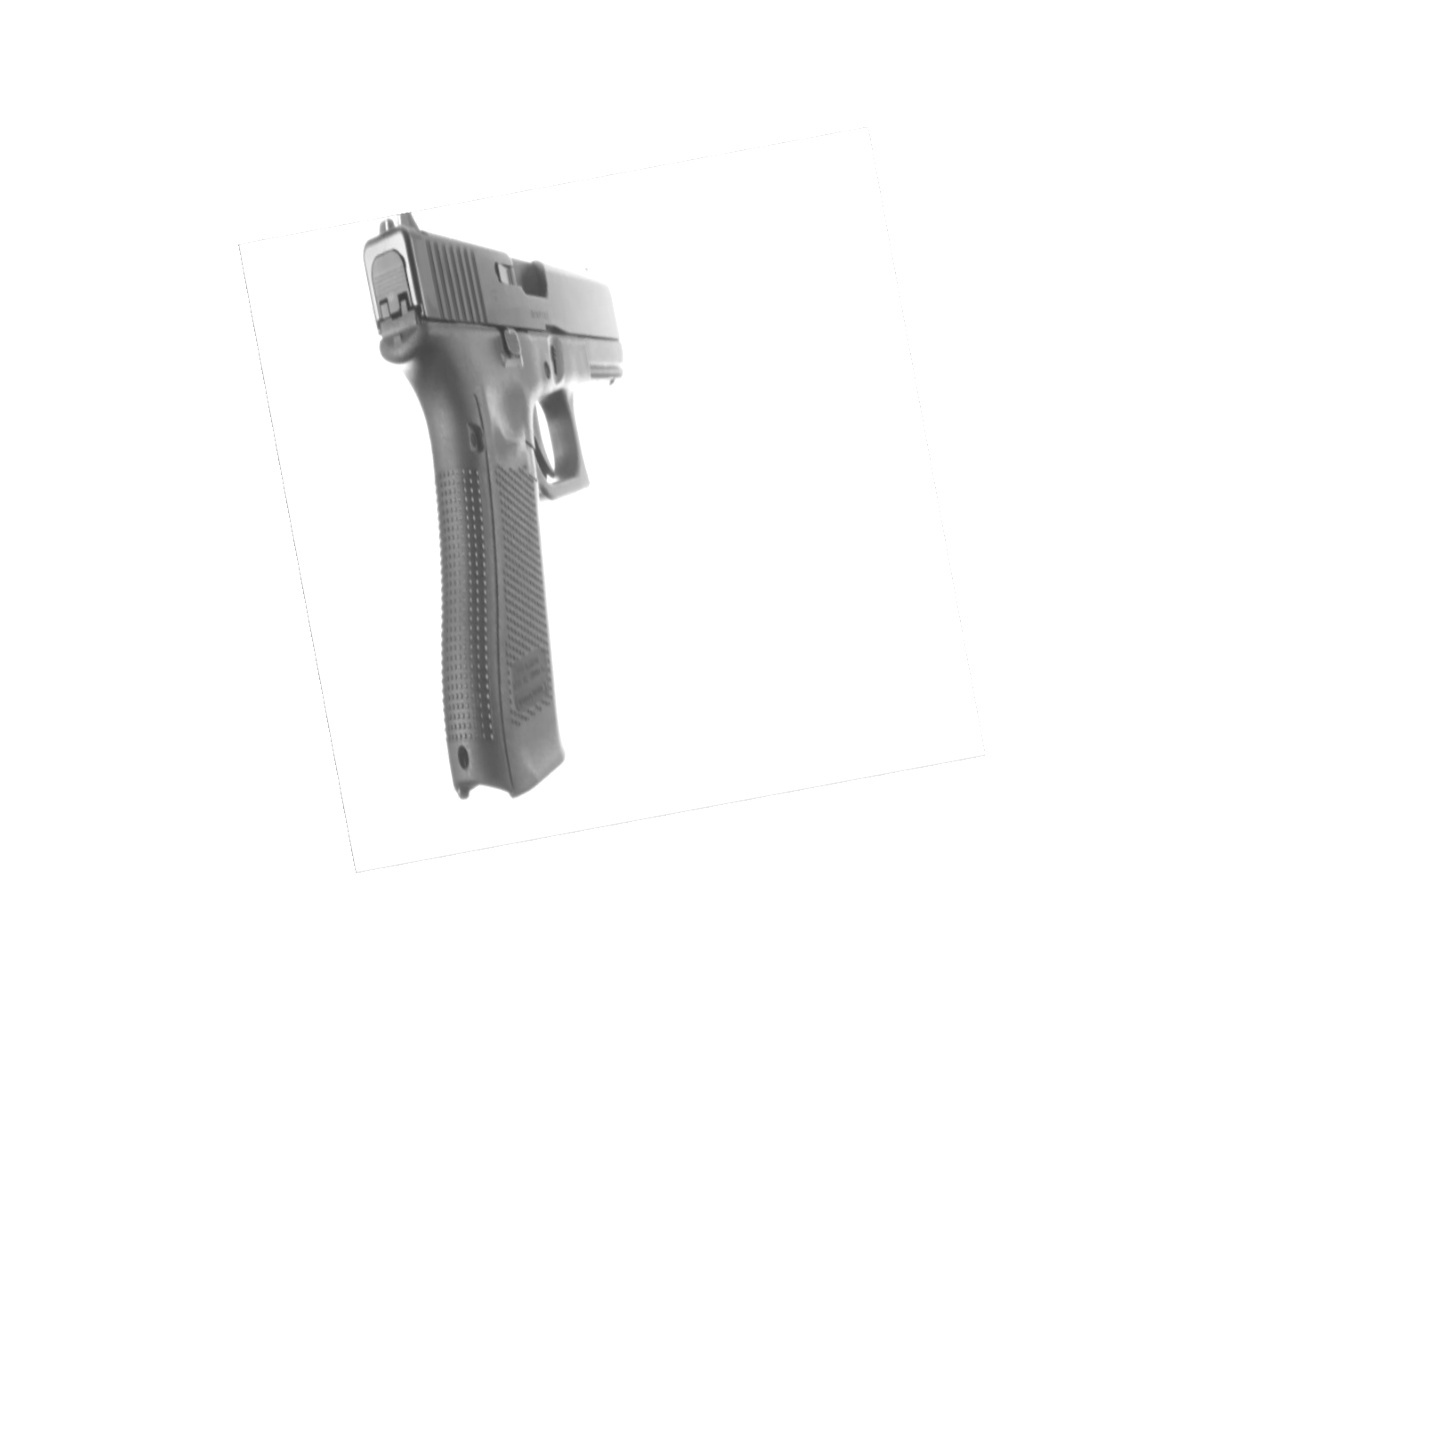gun: (359, 208, 633, 801)
